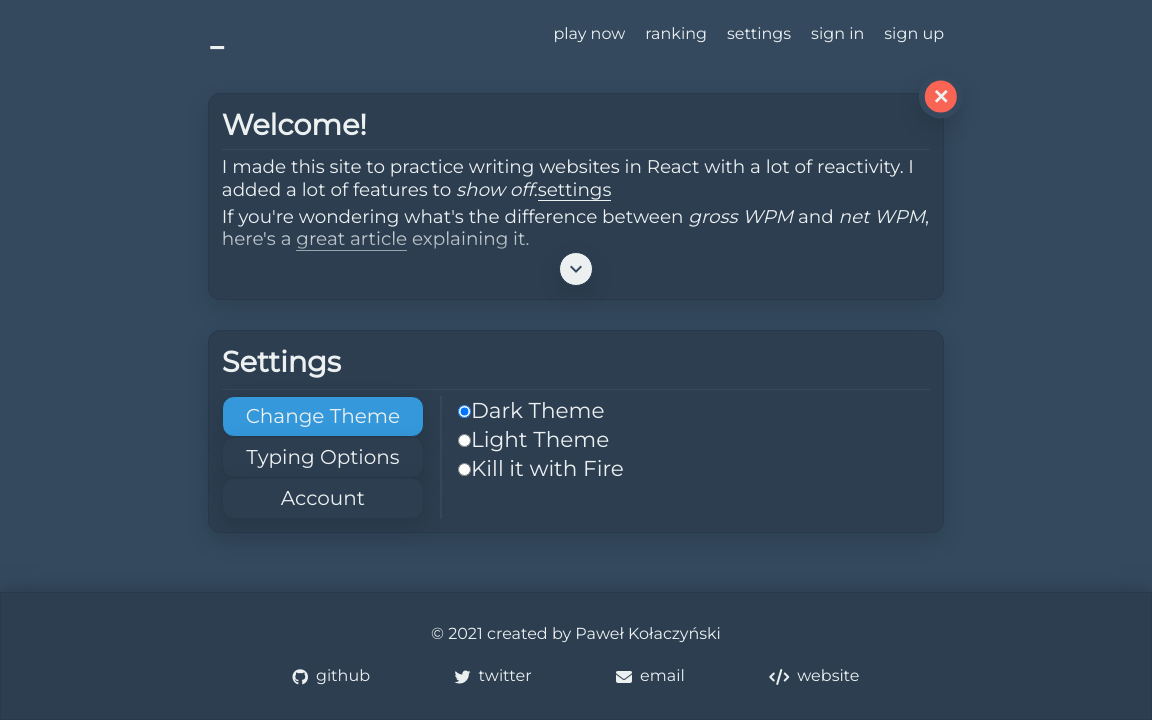
Test: Settings: typing options › show error message on button on bad time
This screenshot has width=1152, height=720.
Click the button "Typing Options": {"x": 323, "y": 458} [222,437,424,478]
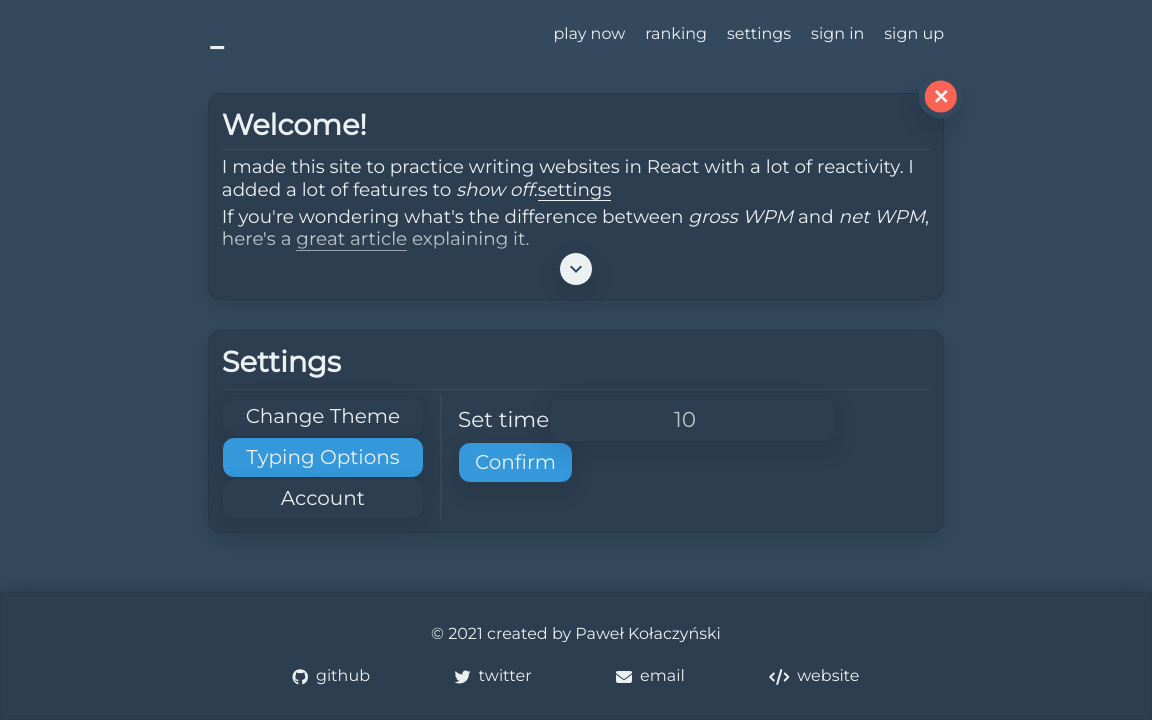
In the number field with id "time": {"x": 693, "y": 419} [549,396,836,442], type "9999"
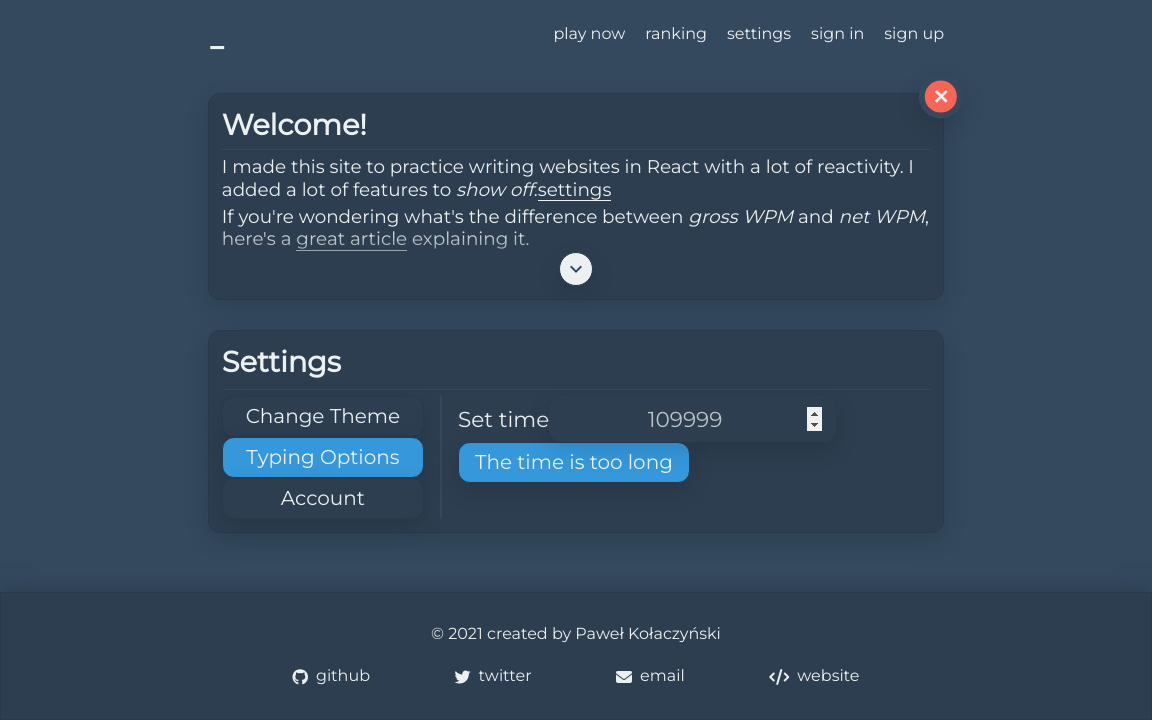
Expected: the button "The time is too long" is shown, [458,442,690,483]
Click the button "Typing Options": {"x": 323, "y": 458} [222,437,424,478]
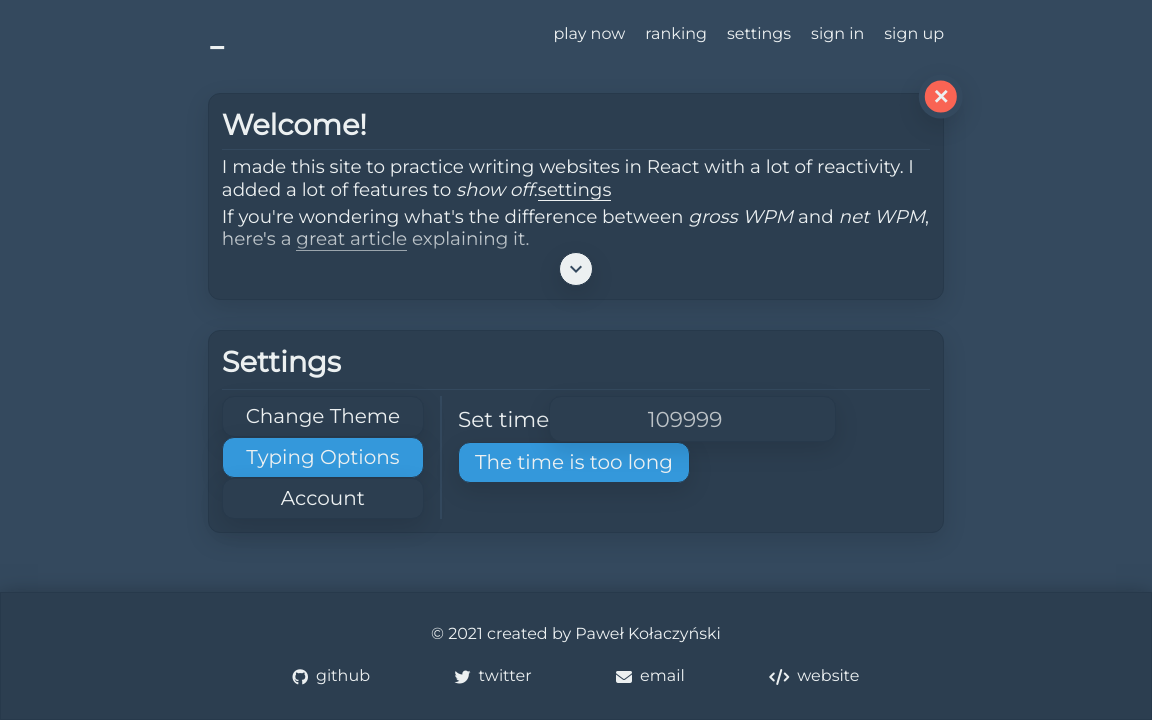
Replace the text in the number field with id "time" with "-1": {"x": 693, "y": 419} [549,396,836,442]
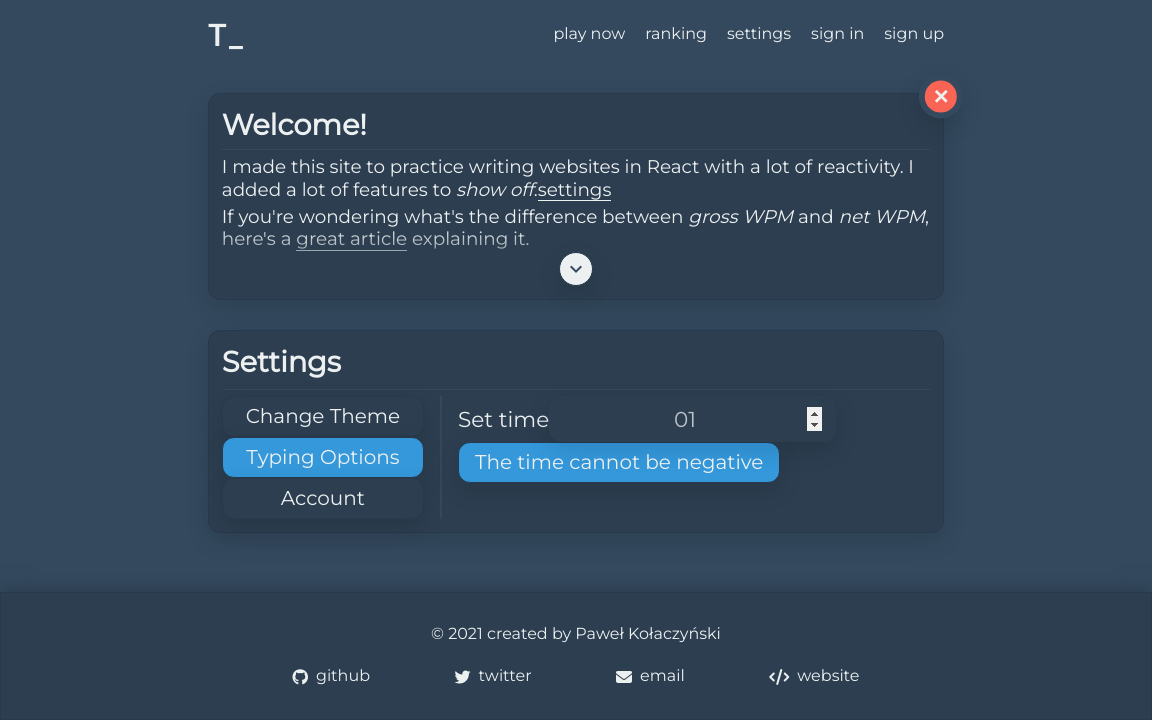
Expected: the button "The time cannot be negative" is shown, [458,442,780,483]
